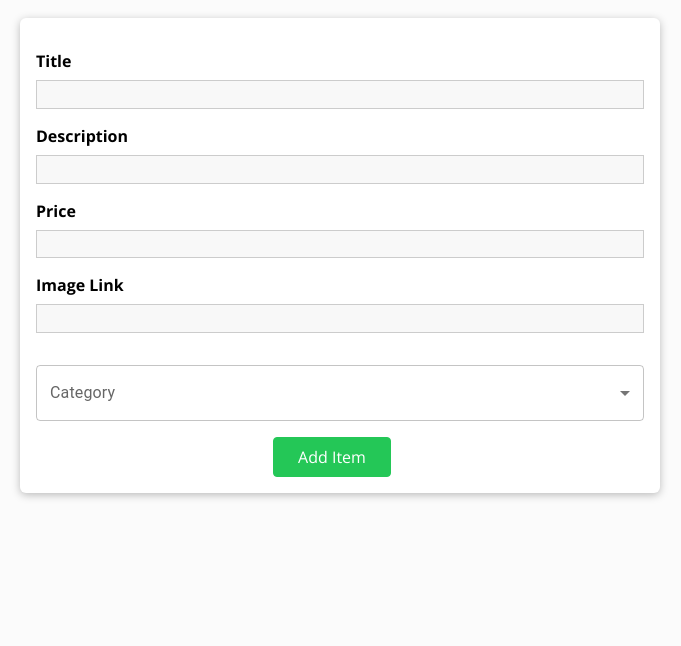
Test case: AddItem page -component › Should display error messages for invalid inputs
Click the button "Add Item": click(332, 457) [273, 437, 391, 477]
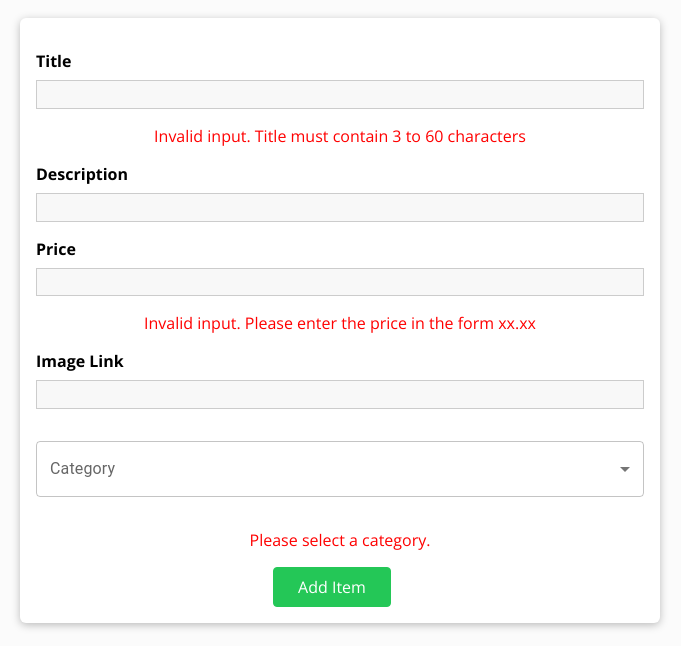
Result: the text "Invalid input. Title must contain 3 to 60 characters" is shown at [154, 125, 526, 147]
Result: the text "Invalid input. Please enter the price in the form xx.xx" is shown at [144, 312, 536, 334]
Result: the text "Please select a category." is shown at [250, 529, 430, 551]
